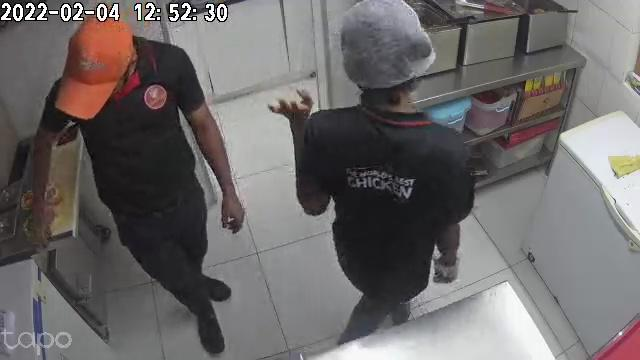no_gloves: (218, 186, 244, 233)
